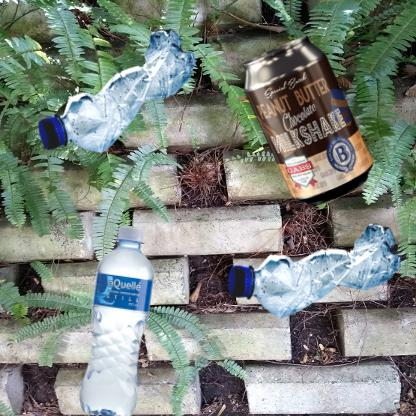botella: (10, 10, 293, 231), (10, 213, 229, 416), (213, 213, 416, 339)
lata: (213, 10, 416, 281)
